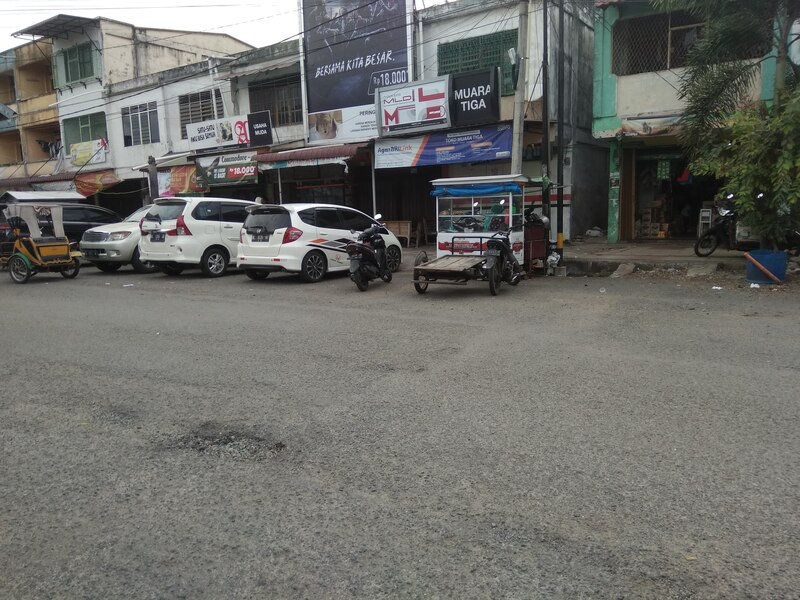becak barang: (408, 223, 521, 307)
car: (236, 199, 406, 284), (135, 190, 267, 279), (76, 197, 162, 276)
motorcycle: (339, 212, 393, 297)
